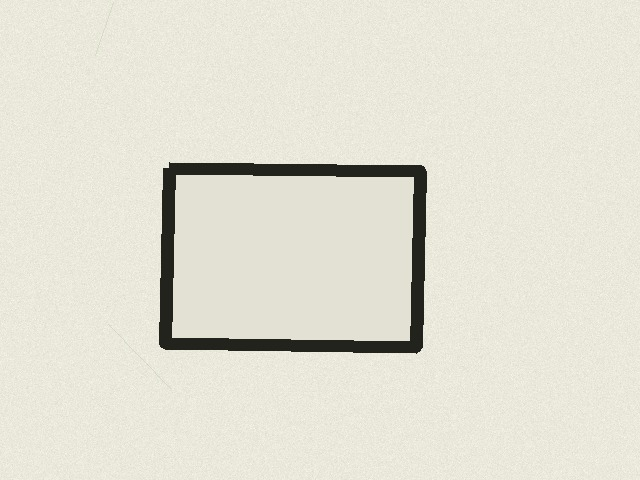parking_area: (165, 168, 420, 347)
